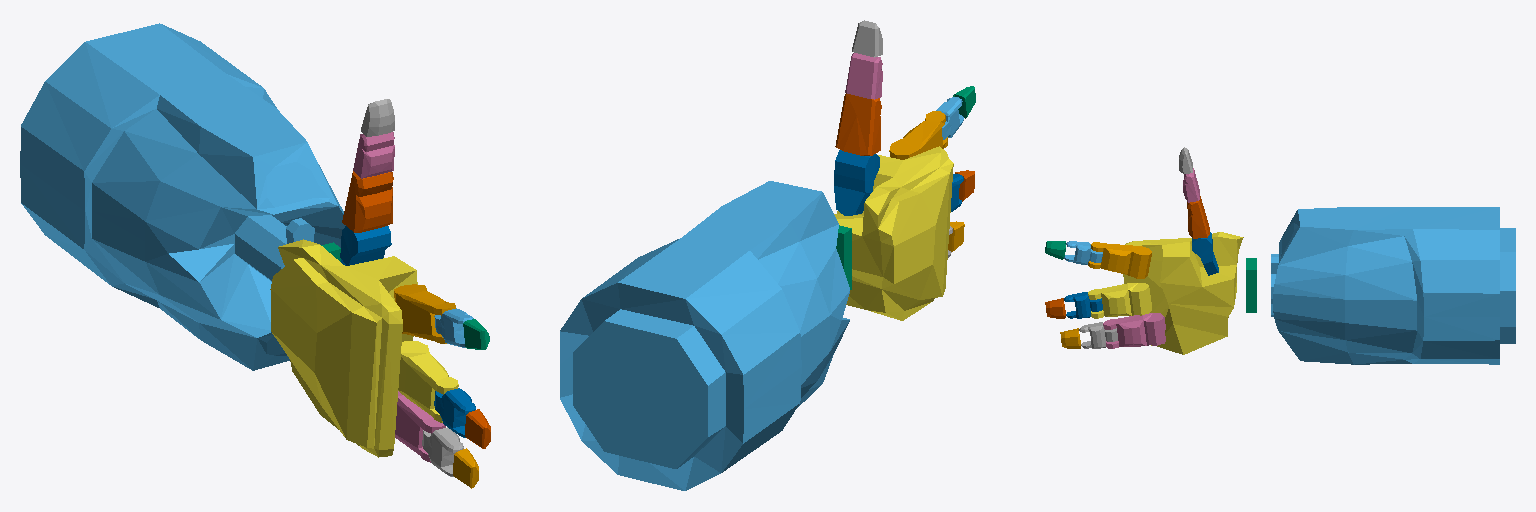
--- Render facts (derived) ---
3 views of the same robot in one strip: view 1: azimuth 30°, elevation 25°; view 2: azimuth 150°, elevation 25°; view 3: azimuth 270°, elevation 25° (orthographic).
Model valkyrie with 17 links and 16 joints (16 revolute), rooted at world, posed every joint at zero.
Visible links, largest first — view 1: rightForearmLink, rightPalm, rightMiddleFingerPitch1Link, rightThumbPitch1Link, rightIndexFingerPitch1Link, rightPinkyPitch1Link, rightThumbRollLink, rightThumbPitch2Link, rightMiddleFingerPitch2Link, rightPinkyPitch2Link, rightThumbPitch3Link, rightIndexFingerPitch2Link (+3 smaller); view 2: rightForearmLink, rightPalm, rightThumbPitch1Link, rightThumbRollLink, rightIndexFingerPitch1Link, rightThumbPitch2Link, rightThumbPitch3Link, rightIndexFingerPitch2Link, rightWristRollLink; view 3: rightForearmLink, rightPalm, rightMiddleFingerPitch1Link, rightPinkyPitch1Link, rightIndexFingerPitch1Link, rightThumbPitch1Link, rightPinkyPitch2Link, rightMiddleFingerPitch2Link, rightThumbRollLink, rightWristRollLink, rightIndexFingerPitch2Link.
Boxes of the visible links, bbox=[...] form: rightForearmLink: bbox=[20, 23, 345, 370]; rightPalm: bbox=[270, 239, 417, 457]; rightMiddleFingerPitch1Link: bbox=[398, 341, 458, 422]; rightThumbPitch1Link: bbox=[342, 171, 393, 232]; rightIndexFingerPitch1Link: bbox=[394, 284, 455, 343]; rightPinkyPitch1Link: bbox=[395, 391, 445, 462]; rightThumbRollLink: bbox=[340, 226, 391, 265]; rightThumbPitch2Link: bbox=[353, 132, 394, 178]; rightMiddleFingerPitch2Link: bbox=[434, 388, 475, 437]; rightPinkyPitch2Link: bbox=[422, 427, 463, 476]; rightThumbPitch3Link: bbox=[361, 99, 394, 136]; rightIndexFingerPitch2Link: bbox=[434, 308, 473, 347]; rightForearmLink: bbox=[560, 181, 849, 490]; rightPalm: bbox=[834, 146, 953, 320]; rightThumbPitch1Link: bbox=[835, 93, 881, 155]; rightThumbRollLink: bbox=[834, 150, 879, 215]; rightIndexFingerPitch1Link: bbox=[889, 111, 947, 159]; rightThumbPitch2Link: bbox=[845, 53, 882, 99]; rightThumbPitch3Link: bbox=[852, 20, 882, 57]; rightIndexFingerPitch2Link: bbox=[936, 97, 963, 139]; rightWristRollLink: bbox=[836, 225, 851, 289]; rightForearmLink: bbox=[1271, 207, 1515, 364]; rightPalm: bbox=[1123, 232, 1243, 354]; rightMiddleFingerPitch1Link: bbox=[1088, 283, 1151, 318]; rightPinkyPitch1Link: bbox=[1103, 313, 1165, 348]; rightIndexFingerPitch1Link: bbox=[1088, 242, 1151, 278]; rightThumbPitch1Link: bbox=[1187, 196, 1209, 238]; rightPinkyPitch2Link: bbox=[1079, 322, 1117, 348]; rightMiddleFingerPitch2Link: bbox=[1064, 292, 1102, 318]; rightThumbRollLink: bbox=[1192, 232, 1218, 275]; rightWristRollLink: bbox=[1246, 258, 1256, 312]; rightIndexFingerPitch2Link: bbox=[1064, 241, 1102, 264].
Size in the robot's own frame: 0.1295 by 0.4107 by 0.1986 metres.
16 mesh visuals loaded from 16 distinct referenced files (16 Collada DAE).

URDF robot description (valkyrie):
<?xml version="1.0" ?>
<!-- =================================================================================== -->
<!-- |    This document was autogenerated by xacro from [local-path]/Desktop/catkin_ws/src/val_description/model/robots/forearm_right.xacro | -->
<!-- |    EDITING THIS FILE BY HAND IS NOT RECOMMENDED                                 | -->
<!-- =================================================================================== -->
<robot name="valkyrie" xmlns:xacro="http://www.ros.org/wiki/xacro">
  <!--Yaw-->
  <!--pitch-->
  <!--roll-->
  <!-- Pulley-1 diameter = 0.01707m -->
  <!-- Pulley-2 diameter = 0.0127m -->
  <!-- Pulley-3 diameter = 0.01016 -->
  <!-- Pulley-1 diameter = 0.01707m -->
  <!-- Pulley-2 diameter = 0.0127m -->
  <!-- Pulley-3 diameter = 0.01016 -->
  <!-- Pulley-1 diameter = 0.01707m -->
  <!-- Pulley-2 diameter = 0.0127m -->
  <!-- Pulley-3 diameter = 0.01016 -->
  <!-- Pulley-1 diameter = 0.01707m -->
  <!-- Pulley-2 diameter = 0.0127m -->
  <!-- Pulley-3 diameter = 0.01016 -->
  <!-- Arm include -->
  <link name="world"/>
  <link name="rightForearmLink">
    <inertial>
      <mass value="2.476"/>
      <origin rpy="0 0 0" xyz="0.015000 -0.13 0.019564"/>
      <inertia ixx="0.01175543" ixy="-0.001300853" ixz="-0.000727141" iyy="0.005071567" iyz="-0.001695416" izz="0.011365657"/>
    </inertial>
    <visual>
      <geometry>
        <mesh filename="package://val_description/model/meshes/arms/aj5_right.dae"/>
      </geometry>
      <origin rpy="0.0 0.0 0.0" xyz="0.0 0.0 0.0"/>
    </visual>
    <collision>
      <geometry>
        <mesh filename="package://val_description/model/meshes/arms/aj5_right.dae"/>
      </geometry>
      <origin rpy="0 0 0" xyz="0 0 0"/>
    </collision>
  </link>
  <link name="rightWristRollLink">
    <inertial>
      <mass value="0.14"/>
      <origin rpy="0 0 0" xyz="0 -0.0 0"/>
      <inertia ixx="3.0251e-05" ixy="-1.25e-07" ixz="-3.6e-08" iyy="3.772e-05" iyz="0.0" izz="9.395e-06"/>
    </inertial>
    <visual>
      <geometry>
        <mesh filename="package://val_description/model/meshes/arms/aj6_right.dae"/>
      </geometry>
      <origin rpy="0.0 0.0 0.0" xyz="0.0 0.0 0.0"/>
    </visual>
    <collision>
      <geometry>
        <mesh filename="package://val_description/model/meshes/arms/aj6_right.dae"/>
      </geometry>
      <origin rpy="0 0 0" xyz="0 0 0"/>
    </collision>
  </link>
  <link name="rightPalm">
    <inertial>
      <mass value="0.712"/>
      <origin rpy="0 0 0" xyz="0.002954 -0.052034 -0.000236"/>
      <inertia ixx="0.000943493" ixy="3.4393e-05" ixz="-3.8828e-05" iyy="0.000711024" iyz="2.3429e-05" izz="0.000610199"/>
    </inertial>
    <visual>
      <geometry>
        <mesh filename="package://val_description/model/meshes/arms/palm_right.dae"/>
      </geometry>
      <origin rpy="0.0 0.0 0.0" xyz="0.0 0.0 0.0"/>
    </visual>
    <collision>
      <geometry>
        <mesh filename="package://val_description/model/meshes/arms/palm_right.dae"/>
      </geometry>
      <origin rpy="0 0 0" xyz="0 0 0"/>
    </collision>
  </link>
  <gazebo reference="rightPalm">
    <kp>1e5</kp>
    <kd>1</kd>
    <maxVel>0.1</maxVel>
    <minDepth>0.0015</minDepth>
  </gazebo>
  <joint name="rightForearmYaw" type="revolute">
    <origin rpy="0.0 0.0 0.0" xyz="-0.0254 0 0"/>
    <axis xyz="0 1 0"/>
    <parent link="world"/>
    <child link="rightForearmLink"/>
    <limit effort="26" lower="-2.019" upper="3.14" velocity="5"/>
    <controller_gains Kd="0.0" Ki="0.0" Kp="1000"/>
    <dynamics damping="0.1" friction="0.0"/>
  </joint>
  <gazebo reference="rightForearmYaw">
    <provideFeedback>1</provideFeedback>
    <implicitSpringDamper>1</implicitSpringDamper>
  </gazebo>
  <joint name="rightWristRoll" type="revolute">
    <origin rpy="0.0 0.0 0.0" xyz="0.0 -0.2871 0.0"/>
    <axis xyz="1 0 0"/>
    <parent link="rightForearmLink"/>
    <child link="rightWristRollLink"/>
    <limit effort="14" lower="-0.625" upper="0.62" velocity="1"/>
    <controller_gains Kd="0" Ki="0.0" Kp="500"/>
    <dynamics damping="0.1" friction="0.0"/>
  </joint>
  <gazebo reference="rightWristRoll">
    <provideFeedback>1</provideFeedback>
    <implicitSpringDamper>1</implicitSpringDamper>
  </gazebo>
  <joint name="rightWristPitch" type="revolute">
    <origin rpy="0.0 0.0 0.0" xyz="0.0 0.0 0.0"/>
    <axis xyz="0 0 1"/>
    <parent link="rightWristRollLink"/>
    <child link="rightPalm"/>
    <limit effort="14" lower="-0.49" upper="0.36" velocity="1"/>
    <controller_gains Kd="0" Ki="0.0" Kp="500"/>
    <dynamics damping="0.1" friction="0.0"/>
  </joint>
  <gazebo reference="rightWristPitch">
    <provideFeedback>1</provideFeedback>
    <implicitSpringDamper>1</implicitSpringDamper>
  </gazebo>
  <link name="rightThumbRollLink">
    <inertial>
      <mass value="0.017"/>
      <origin rpy="0 0 0" xyz="0 -0.0 0.01"/>
      <inertia ixx="2.7778767e-06" ixy="5.6718533e-09" ixz="-9.5523207e-08" iyy="3.5462642e-06" iyz="3.663718e-08" izz="1.3553297e-06"/>
    </inertial>
    <visual>
      <geometry>
        <mesh filename="package://val_description/model/meshes/fingers/thumbj1_right.dae"/>
      </geometry>
      <origin rpy="0.0 0.0 0.0" xyz="0.0 0.0 0.0"/>
    </visual>
    <collision>
      <geometry>
        <mesh filename="package://val_description/model/meshes/fingers/thumbj1_right.dae"/>
      </geometry>
      <origin rpy="0 0 0" xyz="0 0 0"/>
    </collision>
  </link>
  <gazebo reference="rightThumbRollLink">
    <kp>1e5</kp>
    <kd>1</kd>
    <maxVel>0.1</maxVel>
    <minDepth>0.0015</minDepth>
  </gazebo>
  <link name="rightThumbPitch1Link">
    <inertial>
      <mass value="0.02"/>
      <origin rpy="0 0 0" xyz="0.0 -0.005 0.02"/>
      <inertia ixx="4.239e-06" ixy="0.0" ixz="-0.0" iyy="4.582e-06" iyz="0.0" izz="1.47e-06"/>
    </inertial>
    <visual>
      <geometry>
        <mesh filename="package://val_description/model/meshes/fingers/thumbj2_right.dae"/>
      </geometry>
      <origin rpy="0.0 0.0 0.0" xyz="0.0 0.0 0.0"/>
    </visual>
    <collision>
      <geometry>
        <mesh filename="package://val_description/model/meshes/fingers/thumbj2_right.dae"/>
      </geometry>
      <origin rpy="0 0 0" xyz="0 0 0"/>
    </collision>
  </link>
  <gazebo reference="rightThumbPitch1Link">
    <kp>1e5</kp>
    <kd>1</kd>
    <maxVel>0.1</maxVel>
    <minDepth>0.0015</minDepth>
  </gazebo>
  <link name="rightThumbPitch2Link">
    <inertial>
      <mass value="0.013"/>
      <origin rpy="0 0 0" xyz="0 -0.004 0.017"/>
      <inertia ixx="1.266e-06" ixy="0.0" ixz="-0.0" iyy="1.503e-06" iyz="-0.0" izz="6.99e-07"/>
    </inertial>
    <visual>
      <geometry>
        <mesh filename="package://val_description/model/meshes/fingers/thumbj3_right.dae"/>
      </geometry>
      <origin rpy="0.0 0.0 0.0" xyz="0.0 0.0 0.0"/>
    </visual>
    <collision>
      <geometry>
        <mesh filename="package://val_description/model/meshes/fingers/thumbj3_right.dae"/>
      </geometry>
      <origin rpy="0 0 0" xyz="0 0 0"/>
    </collision>
  </link>
  <gazebo reference="rightThumbPitch2Link">
    <kp>1e5</kp>
    <kd>1</kd>
    <maxVel>0.1</maxVel>
    <minDepth>0.0015</minDepth>
  </gazebo>
  <link name="rightThumbPitch3Link">
    <inertial>
      <mass value="0.006"/>
      <origin rpy="0 0 0" xyz="0 -0.004 0.01"/>
      <inertia ixx="3.22e-07" ixy="0.0" ixz="0.0" iyy="4.06e-07" iyz="0.0" izz="2.1e-07"/>
    </inertial>
    <visual>
      <geometry>
        <mesh filename="package://val_description/model/meshes/fingers/thumbj4_right.dae"/>
      </geometry>
      <origin rpy="0.0 0.0 0.0" xyz="0.0 0.0 0.0"/>
    </visual>
    <collision>
      <geometry>
        <mesh filename="package://val_description/model/meshes/fingers/thumbj4_right.dae"/>
      </geometry>
      <origin rpy="0 0 0" xyz="0 0 0"/>
    </collision>
  </link>
  <gazebo reference="rightThumbPitch3Link">
    <kp>1e5</kp>
    <kd>1</kd>
    <maxVel>0.1</maxVel>
    <minDepth>0.0015</minDepth>
  </gazebo>
  <joint name="rightThumbRoll" type="revolute">
    <origin rpy="0.3491 0.0 0.0" xyz="0.0049 -0.0351 0.0228"/>
    <axis xyz="0 1 0"/>
    <parent link="rightPalm"/>
    <child link="rightThumbRollLink"/>
    <limit effort="10" lower="0.0" upper="2.356" velocity="1"/>
    <controller_gains Kd="0.0" Ki="0.0" Kp="5.0"/>
    <dynamics damping="0.5" friction="0.5"/>
  </joint>
  <gazebo reference="rightThumbRoll">
    <provideFeedback>1</provideFeedback>
    <implicitSpringDamper>1</implicitSpringDamper>
  </gazebo>
  <joint name="rightThumbPitch1" type="revolute">
    <origin rpy="-0.3491 0.0 0.0" xyz="0.0 0.0 0.0229"/>
    <axis xyz="1 0 0"/>
    <parent link="rightThumbRollLink"/>
    <child link="rightThumbPitch1Link"/>
    <limit effort="10" lower="0.0" upper="1.658" velocity="1"/>
    <controller_gains Kd="0.0" Ki="0.0" Kp="5.0"/>
    <dynamics damping="0.5" friction="0.5"/>
  </joint>
  <gazebo reference="rightThumbPitch1">
    <provideFeedback>1</provideFeedback>
    <implicitSpringDamper>1</implicitSpringDamper>
  </gazebo>
  <joint name="rightThumbPitch2" type="revolute">
    <origin rpy="0.0 0.0 0.0" xyz="0.0 -0.0066 0.0375"/>
    <axis xyz="1 0 0"/>
    <parent link="rightThumbPitch1Link"/>
    <child link="rightThumbPitch2Link"/>
    <limit effort="10" lower="0.0" upper="1.92" velocity="1"/>
    <controller_gains Kd="0.0" Ki="0.0" Kp="5.0"/>
    <dynamics damping="0.5" friction="0.5"/>
  </joint>
  <gazebo reference="rightThumbPitch2">
    <provideFeedback>1</provideFeedback>
    <implicitSpringDamper>1</implicitSpringDamper>
  </gazebo>
  <joint name="rightThumbPitch3" type="revolute">
    <origin rpy="0.0 0.0 0.0" xyz="0.0 -0.0049 0.0275"/>
    <axis xyz="1 0 0"/>
    <parent link="rightThumbPitch2Link"/>
    <child link="rightThumbPitch3Link"/>
    <limit effort="10" lower="0.0" upper="1.57" velocity="1"/>
    <controller_gains Kd="0.0" Ki="0.0" Kp="5.0"/>
    <dynamics damping="0.5" friction="0.5"/>
  </joint>
  <gazebo reference="rightThumbPitch3">
    <provideFeedback>1</provideFeedback>
    <implicitSpringDamper>1</implicitSpringDamper>
  </gazebo>
  <link name="rightIndexFingerPitch1Link">
    <inertial>
      <mass value="0.02"/>
      <origin rpy="0 0 0" xyz="0 -0.02 0"/>
      <inertia ixx="4.232e-06" ixy="-6e-08" ixz="-8e-09" iyy="1.215e-06" iyz="-7e-09" izz="3.892e-06"/>
    </inertial>
    <visual>
      <geometry>
        <mesh filename="package://val_description/model/meshes/fingers/indexj1_right.dae"/>
      </geometry>
      <origin rpy="0.0 0.0 0.0" xyz="0.0 0.0 0.0"/>
    </visual>
    <collision>
      <geometry>
        <mesh filename="package://val_description/model/meshes/fingers/indexj1_right.dae"/>
      </geometry>
      <origin rpy="0 0 0" xyz="0 0 0"/>
    </collision>
  </link>
  <gazebo reference="rightIndexFingerPitch1Link">
    <kp>1e5</kp>
    <kd>1</kd>
    <maxVel>0.1</maxVel>
    <minDepth>0.0015</minDepth>
  </gazebo>
  <link name="rightIndexFingerPitch2Link">
    <inertial>
      <mass value="0.018"/>
      <origin rpy="0 0 0" xyz="0 -0.013 0"/>
      <inertia ixx="1.562e-06" ixy="-1.7e-08" ixz="-1.3e-08" iyy="7.22e-07" iyz="3.1e-08" izz="1.255e-06"/>
    </inertial>
    <visual>
      <geometry>
        <mesh filename="package://val_description/model/meshes/fingers/indexj2_right.dae"/>
      </geometry>
      <origin rpy="0.0 0.0 0.0" xyz="0.0 0.0 0.0"/>
    </visual>
    <collision>
      <geometry>
        <mesh filename="package://val_description/model/meshes/fingers/indexj2_right.dae"/>
      </geometry>
      <origin rpy="0 0 0" xyz="0 0 0"/>
    </collision>
  </link>
  <gazebo reference="rightIndexFingerPitch2Link">
    <kp>1e5</kp>
    <kd>1</kd>
    <maxVel>0.1</maxVel>
    <minDepth>0.0015</minDepth>
  </gazebo>
  <link name="rightIndexFingerPitch3Link">
    <inertial>
      <mass value="0.01"/>
      <origin rpy="0 0 0" xyz="0 -0.01 0"/>
      <inertia ixx="6.02e-07" ixy="-2.4e-08" ixz="0.0" iyy="2.09e-07" iyz="1.7e-08" izz="5.02e-07"/>
    </inertial>
    <visual>
      <geometry>
        <mesh filename="package://val_description/model/meshes/fingers/indexj3_right.dae"/>
      </geometry>
      <origin rpy="0.0 0.0 0.0" xyz="0.0 0.0 0.0"/>
    </visual>
    <collision>
      <geometry>
        <mesh filename="package://val_description/model/meshes/fingers/indexj3_right.dae"/>
      </geometry>
      <origin rpy="0 0 0" xyz="0 0 0"/>
    </collision>
  </link>
  <gazebo reference="rightIndexFingerPitch3Link">
    <kp>1e5</kp>
    <kd>1</kd>
    <maxVel>0.1</maxVel>
    <minDepth>0.0015</minDepth>
  </gazebo>
  <joint name="rightIndexFingerPitch1" type="revolute">
    <origin rpy="-0.1745 0.0 0.0" xyz="0.0022 -0.0976 0.0235"/>
    <axis xyz="0 0 1"/>
    <parent link="rightPalm"/>
    <child link="rightIndexFingerPitch1Link"/>
    <limit effort="10" lower="0.0" upper="1.57" velocity="1"/>
    <controller_gains Kd="0.0" Ki="0.0" Kp="5.0"/>
    <dynamics damping="0.5" friction="0.5"/>
  </joint>
  <gazebo reference="rightIndexFingerPitch1">
    <provideFeedback>1</provideFeedback>
    <implicitSpringDamper>1</implicitSpringDamper>
  </gazebo>
  <joint name="rightIndexFingerPitch2" type="revolute">
    <origin rpy="0.0 0.0 0.0" xyz="0.0 -0.0381 0.0"/>
    <axis xyz="0 0 1"/>
    <parent link="rightIndexFingerPitch1Link"/>
    <child link="rightIndexFingerPitch2Link"/>
    <limit effort="10" lower="0.0" upper="1.658" velocity="1"/>
    <controller_gains Kd="0.0" Ki="0.0" Kp="5.0"/>
    <dynamics damping="0.5" friction="0.5"/>
  </joint>
  <gazebo reference="rightIndexFingerPitch2">
    <provideFeedback>1</provideFeedback>
    <implicitSpringDamper>1</implicitSpringDamper>
  </gazebo>
  <joint name="rightIndexFingerPitch3" type="revolute">
    <origin rpy="0.0 0.0 0.0" xyz="0.0 -0.0229 0"/>
    <axis xyz="0 0 1"/>
    <parent link="rightIndexFingerPitch2Link"/>
    <child link="rightIndexFingerPitch3Link"/>
    <limit effort="10" lower="0.0" upper="1.92" velocity="1"/>
    <controller_gains Kd="0.0" Ki="0.0" Kp="5.0"/>
    <dynamics damping="0.5" friction="0.5"/>
  </joint>
  <gazebo reference="rightIndexFingerPitch3">
    <provideFeedback>1</provideFeedback>
    <implicitSpringDamper>1</implicitSpringDamper>
  </gazebo>
  <link name="rightMiddleFingerPitch1Link">
    <inertial>
      <mass value="0.02"/>
      <origin rpy="0 0 0" xyz="0 -0.02 0"/>
      <inertia ixx="5.148e-06" ixy="-4.2e-08" ixz="-1.1e-08" iyy="1.322e-06" iyz="-4e-09" izz="4.592e-06"/>
    </inertial>
    <visual>
      <geometry>
        <mesh filename="package://val_description/model/meshes/fingers/middlej1_right.dae"/>
      </geometry>
      <origin rpy="0.0 0.0 0.0" xyz="0.0 0.0 0.0"/>
    </visual>
    <collision>
      <geometry>
        <mesh filename="package://val_description/model/meshes/fingers/middlej1_right.dae"/>
      </geometry>
      <origin rpy="0 0 0" xyz="0 0 0"/>
    </collision>
  </link>
  <gazebo reference="rightMiddleFingerPitch1Link">
    <kp>1e5</kp>
    <kd>1</kd>
    <maxVel>0.1</maxVel>
    <minDepth>0.0015</minDepth>
  </gazebo>
  <link name="rightMiddleFingerPitch2Link">
    <inertial>
      <mass value="0.011"/>
      <origin rpy="0 0 0" xyz="0 -0.013 0"/>
      <inertia ixx="1.97e-06" ixy="3.4e-08" ixz="-1.1e-08" iyy="5.54e-07" iyz="-7.8e-08" izz="2.272e-06"/>
    </inertial>
    <visual>
      <geometry>
        <mesh filename="package://val_description/model/meshes/fingers/middlej2_right.dae"/>
      </geometry>
      <origin rpy="0.0 0.0 0.0" xyz="0.0 0.0 0.0"/>
    </visual>
    <collision>
      <geometry>
        <mesh filename="package://val_description/model/meshes/fingers/middlej2_right.dae"/>
      </geometry>
      <origin rpy="0 0 0" xyz="0 0 0"/>
    </collision>
  </link>
  <gazebo reference="rightMiddleFingerPitch2Link">
    <kp>1e5</kp>
    <kd>1</kd>
    <maxVel>0.1</maxVel>
    <minDepth>0.0015</minDepth>
  </gazebo>
  <link name="rightMiddleFingerPitch3Link">
    <inertial>
      <mass value="0.006"/>
      <origin rpy="0 0 0" xyz="0 -0.01 0"/>
      <inertia ixx="3.96e-07" ixy="-9e-09" ixz="-1e-09" iyy="1.6e-07" iyz="1.6e-08" izz="3.03e-07"/>
    </inertial>
    <visual>
      <geometry>
        <mesh filename="package://val_description/model/meshes/fingers/middlej3_right.dae"/>
      </geometry>
      <origin rpy="0.0 0.0 0.0" xyz="0.0 0.0 0.0"/>
    </visual>
    <collision>
      <geometry>
        <mesh filename="package://val_description/model/meshes/fingers/middlej3_right.dae"/>
      </geometry>
      <origin rpy="0 0 0" xyz="0 0 0"/>
    </collision>
  </link>
  <gazebo reference="rightMiddleFingerPitch3Link">
    <kp>1e5</kp>
    <kd>1</kd>
    <maxVel>0.1</maxVel>
    <minDepth>0.0015</minDepth>
  </gazebo>
  <joint name="rightMiddleFingerPitch1" type="revolute">
    <origin rpy="0.1222 0.0 0.0" xyz="0.0022 -0.097 -0.0119"/>
    <axis xyz="0 0 1"/>
    <parent link="rightPalm"/>
    <child link="rightMiddleFingerPitch1Link"/>
    <limit effort="10" lower="0.0" upper="1.658" velocity="1"/>
    <controller_gains Kd="0.0" Ki="0.0" Kp="5.0"/>
    <dynamics damping="0.5" friction="0.5"/>
  </joint>
  <gazebo reference="rightMiddleFingerPitch1">
    <provideFeedback>1</provideFeedback>
    <implicitSpringDamper>1</implicitSpringDamper>
  </gazebo>
  <joint name="rightMiddleFingerPitch2" type="revolute">
    <origin rpy="0.0 0.0 0.0" xyz="0.0 -0.0381 0.0"/>
    <axis xyz="0 0 1"/>
    <parent link="rightMiddleFingerPitch1Link"/>
    <child link="rightMiddleFingerPitch2Link"/>
    <limit effort="10" lower="0.0" upper="1.92" velocity="1"/>
    <controller_gains Kd="0.0" Ki="0.0" Kp="5.0"/>
    <dynamics damping="0.5" friction="0.5"/>
  </joint>
  <gazebo reference="rightMiddleFingerPitch2">
    <provideFeedback>1</provideFeedback>
    <implicitSpringDamper>1</implicitSpringDamper>
  </gazebo>
  <joint name="rightMiddleFingerPitch3" type="revolute">
    <origin rpy="0.0 0.0 0.0" xyz="0.0 -0.0229 0.0"/>
    <axis xyz="0 0 1"/>
    <parent link="rightMiddleFingerPitch2Link"/>
    <child link="rightMiddleFingerPitch3Link"/>
    <limit effort="10" lower="0.0" upper="1.57" velocity="1"/>
    <controller_gains Kd="0.0" Ki="0.0" Kp="5.0"/>
    <dynamics damping="0.5" friction="0.5"/>
  </joint>
  <gazebo reference="rightMiddleFingerPitch3">
    <provideFeedback>1</provideFeedback>
    <implicitSpringDamper>1</implicitSpringDamper>
  </gazebo>
  <link name="rightPinkyPitch1Link">
    <inertial>
      <mass value="0.02"/>
      <origin rpy="0 0 0" xyz="0 -0.02 0"/>
      <inertia ixx="5.148e-06" ixy="-4.2e-08" ixz="-1.1e-08" iyy="1.322e-06" iyz="-4e-09" izz="4.592e-06"/>
    </inertial>
    <visual>
      <geometry>
        <mesh filename="package://val_description/model/meshes/fingers/pinkyj1_right.dae"/>
      </geometry>
      <origin rpy="0.0 0.0 0.0" xyz="0.0 0.0 0.0"/>
    </visual>
    <collision>
      <geometry>
        <mesh filename="package://val_description/model/meshes/fingers/pinkyj1_right.dae"/>
      </geometry>
      <origin rpy="0 0 0" xyz="0 0 0"/>
    </collision>
  </link>
  <gazebo reference="rightPinkyPitch1Link">
    <kp>1e5</kp>
    <kd>1</kd>
    <maxVel>0.1</maxVel>
    <minDepth>0.0015</minDepth>
  </gazebo>
  <link name="rightPinkyPitch2Link">
    <inertial>
      <mass value="0.011"/>
      <origin rpy="0 0 0" xyz="0 -0.013 0"/>
      <inertia ixx="1.97e-06" ixy="3.4e-08" ixz="-1.1e-08" iyy="5.54e-07" iyz="-7.8e-08" izz="2.272e-06"/>
    </inertial>
    <visual>
      <geometry>
        <mesh filename="package://val_description/model/meshes/fingers/pinkyj2_right.dae"/>
      </geometry>
      <origin rpy="0.0 0.0 0.0" xyz="0.0 0.0 0.0"/>
    </visual>
    <collision>
      <geometry>
        <mesh filename="package://val_description/model/meshes/fingers/pinkyj2_right.dae"/>
      </geometry>
      <origin rpy="0 0 0" xyz="0 0 0"/>
    </collision>
  </link>
  <gazebo reference="rightPinkyPitch2Link">
    <kp>1e5</kp>
    <kd>1</kd>
    <maxVel>0.1</maxVel>
    <minDepth>0.0015</minDepth>
  </gazebo>
  <link name="rightPinkyPitch3Link">
    <inertial>
      <mass value="0.006"/>
      <origin rpy="0 0 0" xyz="0 -0.01 0"/>
      <inertia ixx="3.96e-07" ixy="-9e-09" ixz="-1e-09" iyy="1.6e-07" iyz="1.6e-08" izz="3.03e-07"/>
    </inertial>
    <visual>
      <geometry>
        <mesh filename="package://val_description/model/meshes/fingers/pinkyj3_right.dae"/>
      </geometry>
      <origin rpy="0.0 0.0 0.0" xyz="0.0 0.0 0.0"/>
    </visual>
    <collision>
      <geometry>
        <mesh filename="package://val_description/model/meshes/fingers/pinkyj3_right.dae"/>
      </geometry>
      <origin rpy="0 0 0" xyz="0 0 0"/>
    </collision>
  </link>
  <gazebo reference="rightPinkyPitch3Link">
    <kp>1e5</kp>
    <kd>1</kd>
    <maxVel>0.1</maxVel>
    <minDepth>0.0015</minDepth>
  </gazebo>
  <joint name="rightPinkyPitch1" type="revolute">
    <origin rpy="0.1222 0.0 0.0" xyz="0.0022 -0.0838 -0.041"/>
    <axis xyz="0 0 1"/>
    <parent link="rightPalm"/>
    <child link="rightPinkyPitch1Link"/>
    <limit effort="10" lower="0.0" upper="1.57" velocity="1"/>
    <controller_gains Kd="0.0" Ki="0.0" Kp="5.0"/>
    <dynamics damping="0.5" friction="0.5"/>
  </joint>
  <gazebo reference="rightPinkyPitch1">
    <provideFeedback>1</provideFeedback>
    <implicitSpringDamper>1</implicitSpringDamper>
  </gazebo>
  <joint name="rightPinkyPitch2" type="revolute">
    <origin rpy="0.0 0.0 0.0" xyz="0.0 -0.0381 0.0"/>
    <axis xyz="0 0 1"/>
    <parent link="rightPinkyPitch1Link"/>
    <child link="rightPinkyPitch2Link"/>
    <limit effort="10" lower="0.0" upper="1.658" velocity="1"/>
    <controller_gains Kd="0.0" Ki="0.0" Kp="5.0"/>
    <dynamics damping="0.5" friction="0.5"/>
  </joint>
  <gazebo reference="rightPinkyPitch2">
    <provideFeedback>1</provideFeedback>
    <implicitSpringDamper>1</implicitSpringDamper>
  </gazebo>
  <joint name="rightPinkyPitch3" type="revolute">
    <origin rpy="0.0 0.0 0.0" xyz="0.0 -0.0229 0.0"/>
    <axis xyz="0 0 1"/>
    <parent link="rightPinkyPitch2Link"/>
    <child link="rightPinkyPitch3Link"/>
    <limit effort="10" lower="0.0" upper="1.92" velocity="1"/>
    <controller_gains Kd="0.0" Ki="0.0" Kp="5.0"/>
    <dynamics damping="0.5" friction="0.5"/>
  </joint>
  <gazebo reference="rightPinkyPitch3">
    <provideFeedback>1</provideFeedback>
    <implicitSpringDamper>1</implicitSpringDamper>
  </gazebo>
  <transmission name="rightForearmYawTransmission">
    <type>transmission_interface/SimpleTransmission</type>
    <joint name="rightForearmYaw">
      <hardwareInterface>EffortJointInterface</hardwareInterface>
    </joint>
    <actuator name="rightForearmYaw">
      <node name="/right_arm/j5"/>
      <mechanicalReduction>1</mechanicalReduction>
      <api name="robot_hardware_interface/TurbodriverAPI"/>
    </actuator>
  </transmission>
  <transmission name="rightIndexFingerMotorPitch1Transmission">
    <type>transmission_interface/SimpleTransmission</type>
    <joint name="rightIndexFingerMotorPitch1">
      <hardwareInterface>EffortJointInterface</hardwareInterface>
    </joint>
    <actuator name="rightIndexFingerMotorPitch1">
      <node name="/right_arm/hand/index"/>
      <mechanicalReduction>1</mechanicalReduction>
      <api name="robot_hardware_interface/TurbodriverAPI"/>
    </actuator>
  </transmission>
  <transmission name="rightMiddleFingerMotorPitch1Transmission">
    <type>transmission_interface/SimpleTransmission</type>
    <joint name="rightMiddleFingerMotorPitch1">
      <hardwareInterface>EffortJointInterface</hardwareInterface>
    </joint>
    <actuator name="rightMiddleFingerMotorPitch1">
      <node name="/right_arm/hand/middle"/>
      <mechanicalReduction>1</mechanicalReduction>
      <api name="robot_hardware_interface/TurbodriverAPI"/>
    </actuator>
  </transmission>
  <transmission name="rightPinkyMotorPitch1Transmission">
    <type>transmission_interface/SimpleTransmission</type>
    <joint name="rightPinkyMotorPitch1">
      <hardwareInterface>EffortJointInterface</hardwareInterface>
    </joint>
    <actuator name="rightPinkyMotorPitch1">
      <node name="/right_arm/hand/pinky"/>
      <mechanicalReduction>1</mechanicalReduction>
      <api name="robot_hardware_interface/TurbodriverAPI"/>
    </actuator>
  </transmission>
  <transmission name="rightThumbMotorRollTransmission">
    <type>transmission_interface/SimpleTransmission</type>
    <joint name="rightThumbMotorRoll">
      <hardwareInterface>EffortJointInterface</hardwareInterface>
    </joint>
    <actuator name="rightThumbMotorRoll">
      <node name="/right_arm/hand/thumb_roll"/>
      <mechanicalReduction>1</mechanicalReduction>
      <api name="robot_hardware_interface/TurbodriverAPI"/>
    </actuator>
  </transmission>
  <transmission name="rightThumbMotorPitch1Transmission">
    <type>transmission_interface/SimpleTransmission</type>
    <joint name="rightThumbMotorPitch1">
      <hardwareInterface>EffortJointInterface</hardwareInterface>
    </joint>
    <actuator name="rightThumbMotorPitch1">
      <node name="/right_arm/hand/thumb_proximal"/>
      <mechanicalReduction>1</mechanicalReduction>
      <api name="robot_hardware_interface/TurbodriverAPI"/>
    </actuator>
  </transmission>
  <transmission name="rightThumbMotorPitch2Transmission">
    <type>transmission_interface/SimpleTransmission</type>
    <joint name="rightThumbMotorPitch2">
      <hardwareInterface>EffortJointInterface</hardwareInterface>
    </joint>
    <actuator name="rightThumbMotorPitch2">
      <node name="/right_arm/hand/thumb_distal"/>
      <mechanicalReduction>1</mechanicalReduction>
      <api name="robot_hardware_interface/TurbodriverAPI"/>
    </actuator>
  </transmission>
  <transmission name="rightWristTransmission">
    <type>robot_transmission_interface/WristPushrodTransmission</type>
    <joint name="rightWristPitch">
      <role>pitch</role>
      <hardwareInterface>EffortJointInterface</hardwareInterface>
    </joint>
    <joint name="rightWristRoll">
      <role>roll</role>
      <hardwareInterface>EffortJointInterface</hardwareInterface>
    </joint>
    <actuator name="rightWristRightActuator">
      <node name="/right_arm/wrist/right_actuator"/>
      <role>bottom</role>
      <mechanicalReduction>1</mechanicalReduction>
      <api name="robot_hardware_interface/TurbodriverAPI_linear_futek"/>
    </actuator>
    <actuator name="rightWristLeftActuator">
      <node name="/right_arm/wrist/left_actuator"/>
      <role>top</role>
      <mechanicalReduction>1</mechanicalReduction>
      <api name="robot_hardware_interface/TurbodriverAPI_linear_futek"/>
    </actuator>
  </transmission>
</robot>
